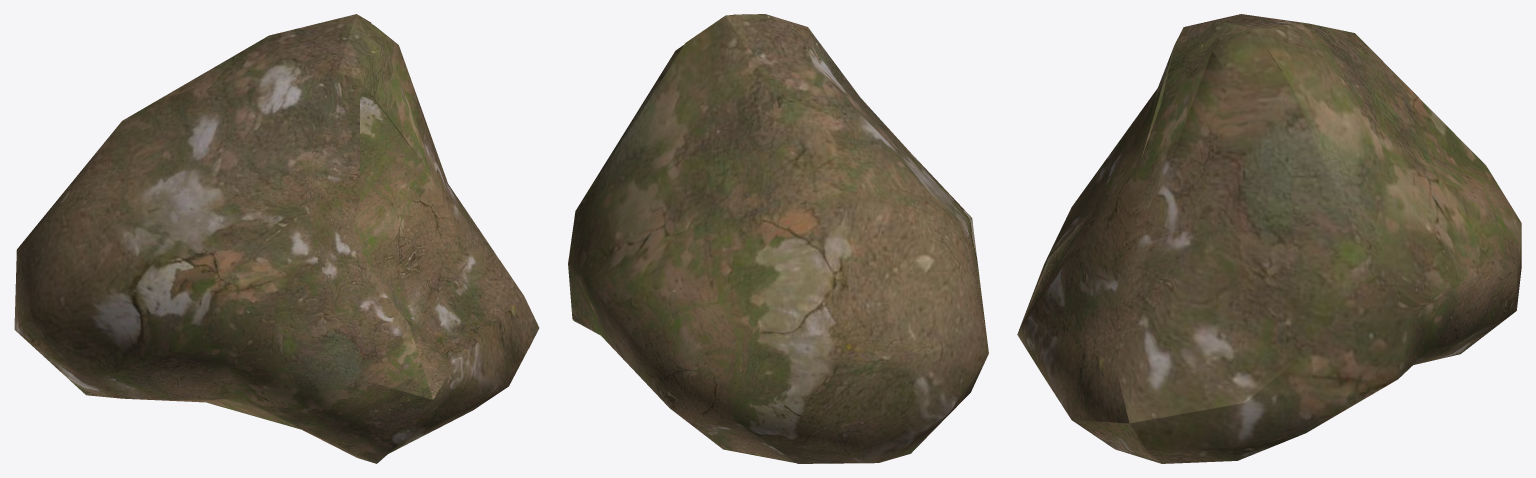
File: rock_002.glb
3 views of the same model, side by side, from view 1: azimuth 30°, elevation 25°; view 2: azimuth 150°, elevation 25°; view 3: azimuth 270°, elevation 25° (orthographic). The views are drawn at different scales.
Parts seen in each view (by area): view 1: rock.002; view 2: rock.002; view 3: rock.002.
Part boxes in pixels (<box>): rock.002: <box>14,14,539,463</box>; rock.002: <box>568,14,988,463</box>; rock.002: <box>1017,14,1521,463</box>.
Bounding box in the file's own units: 0.8753 × 0.7567 × 0.8273.
1 material, 1 textured.
